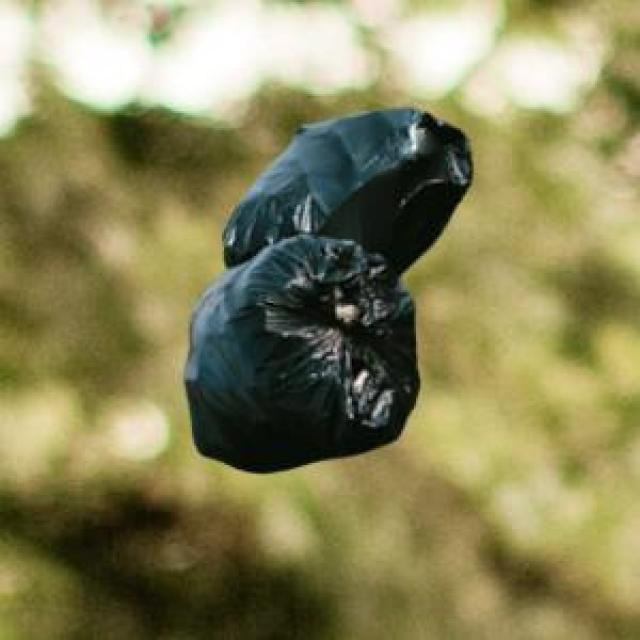waste: (185, 109, 472, 472), (185, 111, 472, 472)
